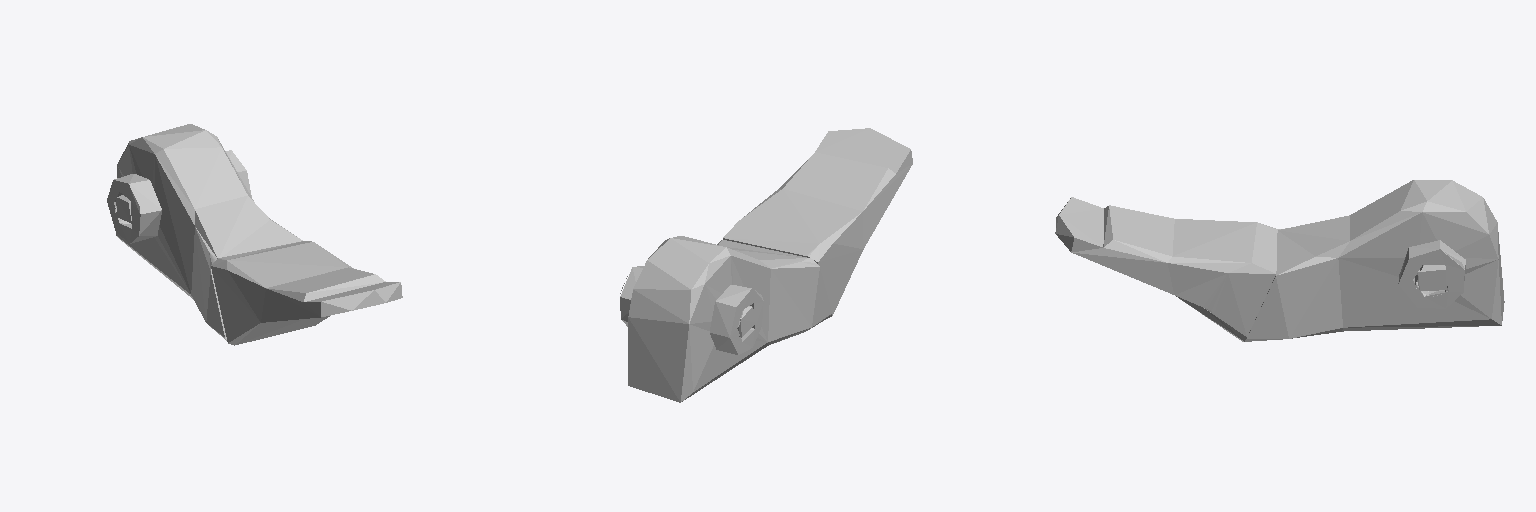
The model's file is right_visual_middle_ip_mesh_mesh.obj.
The picture shows the model from 3 angles: view 1: azimuth 30°, elevation 25°; view 2: azimuth 150°, elevation 25°; view 3: azimuth 270°, elevation 25°; orthographic projection.
Bounding box in the file's own units: 0.015 × 0.0169 × 0.0518.